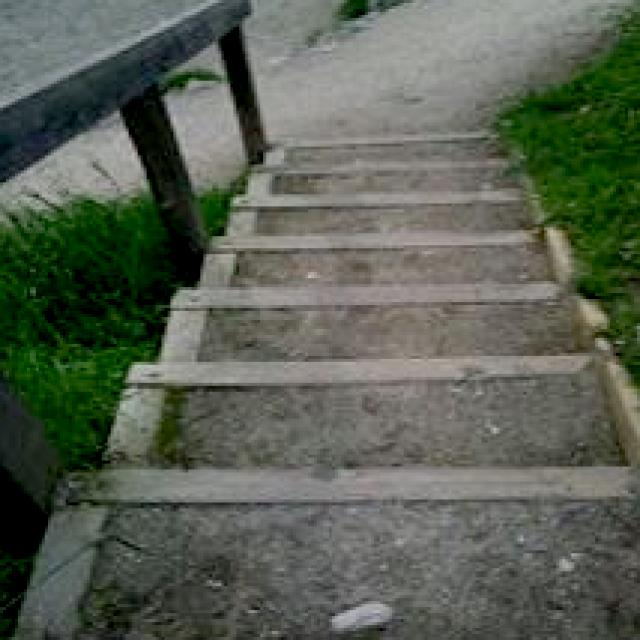downstair: (43, 375, 554, 640)
